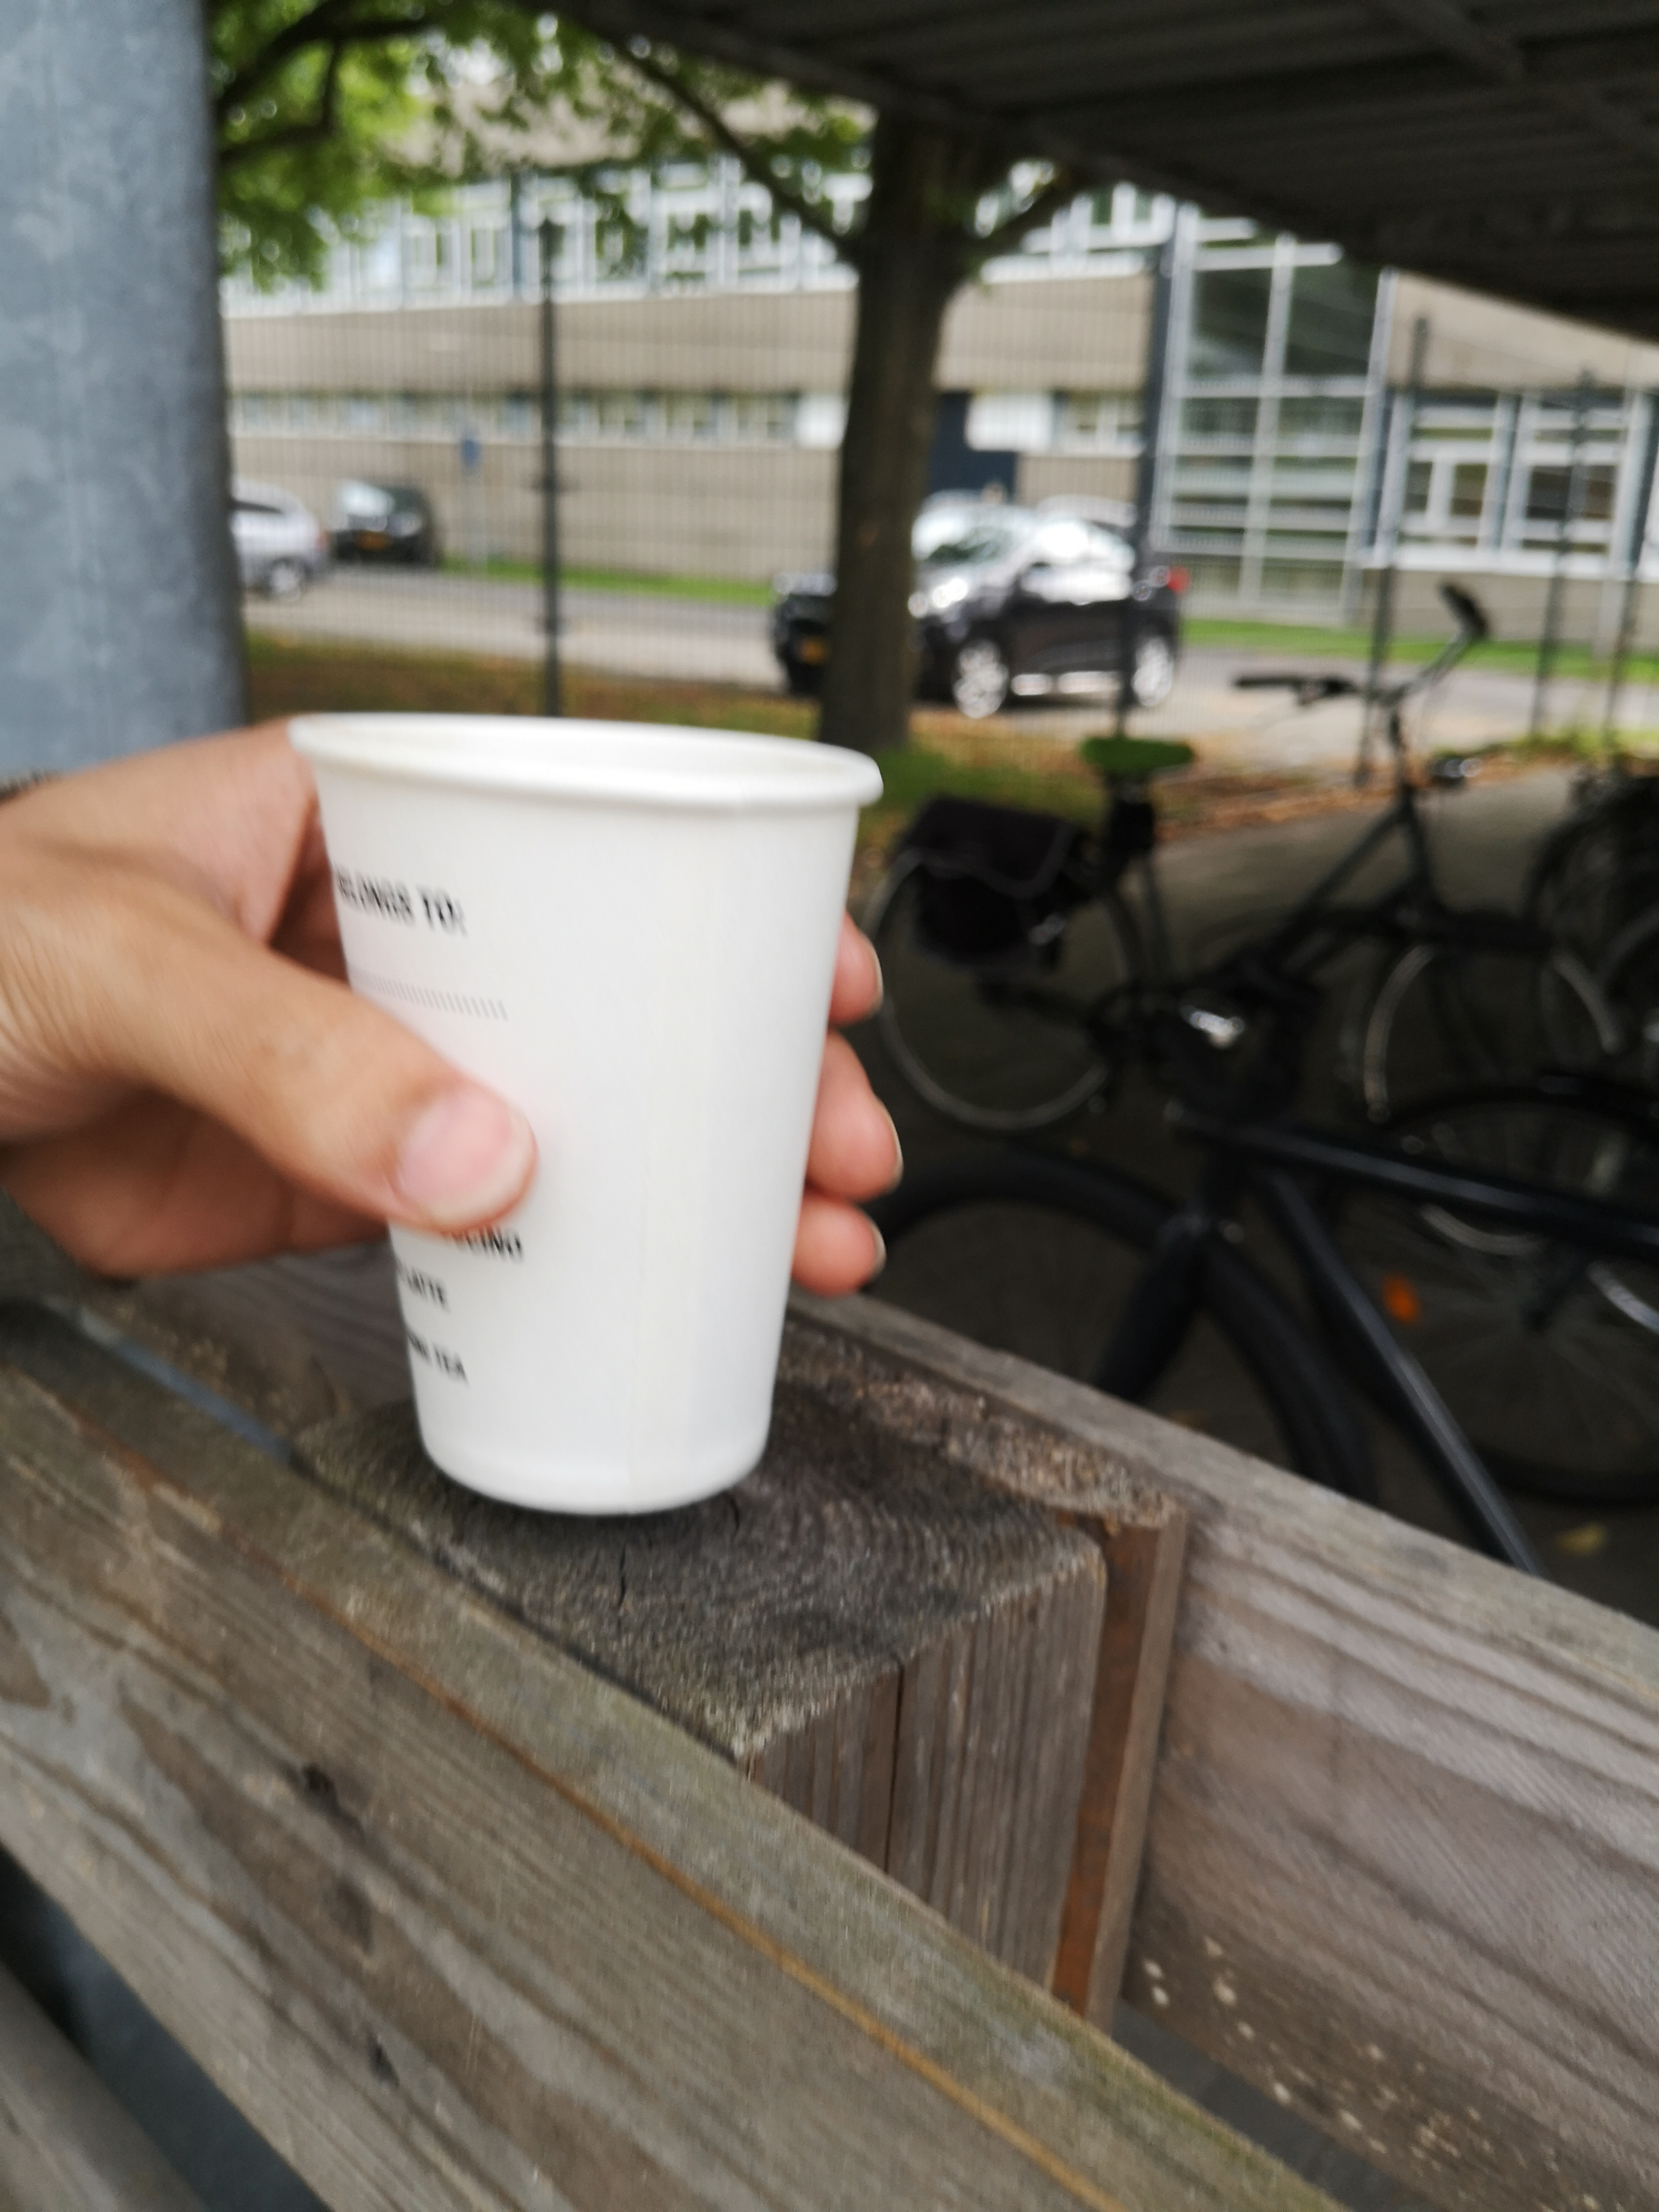cup: (272, 705, 915, 1540)
